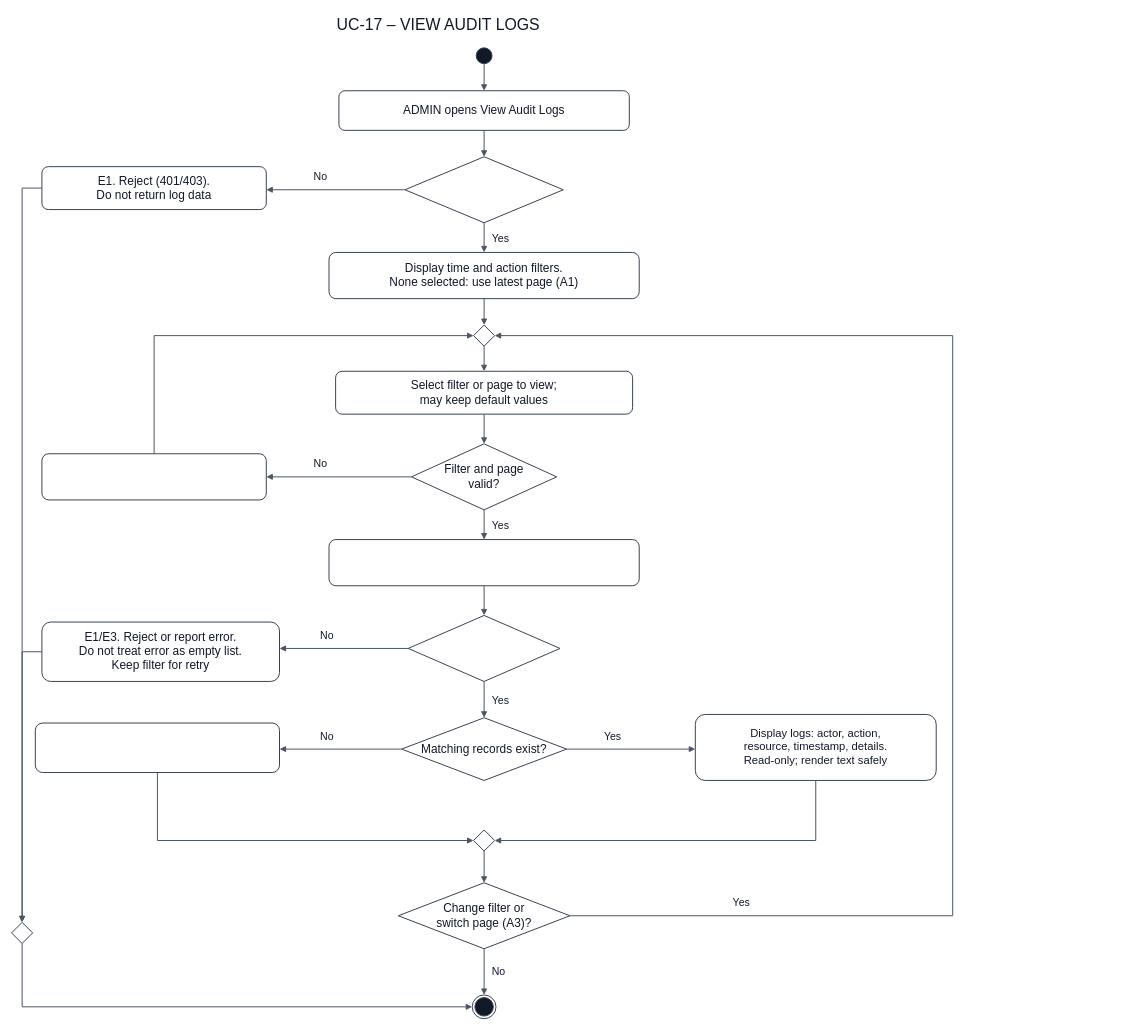
This 1139x1030 diagram has some shape labels left out. The box of each missing label's shape, as (x1, y1, x2, y2) in pixels:
A2. Notify no matching audit logs. Keep current filter: (35, 722, 280, 773)
Data retrieved successfully?: (407, 615, 560, 682)
E2. Notify invalid filter/page. Keep data for adjustment: (41, 453, 267, 500)
Re-check ADMIN permission; query logs. Sort created_at, log_id DESC; paginate: (328, 539, 639, 586)
Valid session and ADMIN role?: (404, 156, 564, 223)
